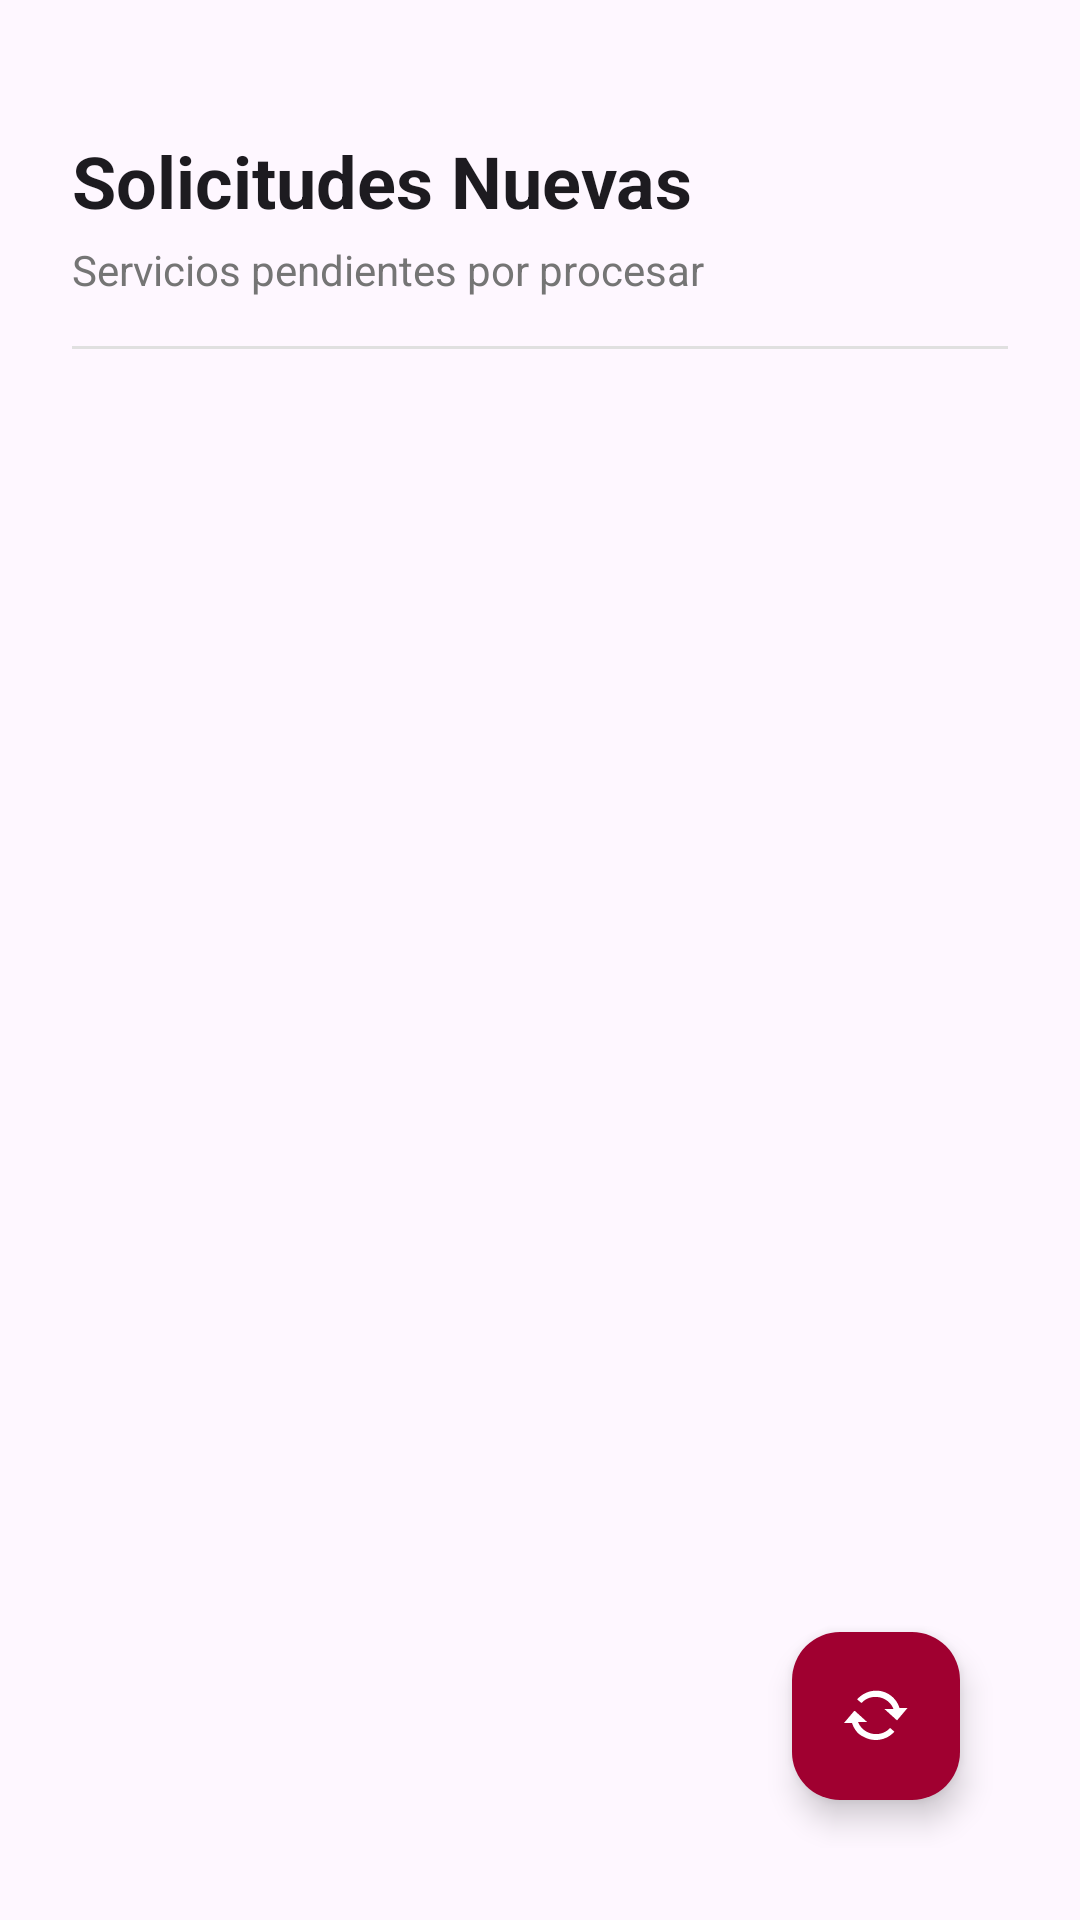

Where icons sit on this 1080×1920 app screen, as (x1, y1, x2, y2):
Actualizar: (792, 1632, 960, 1800)
